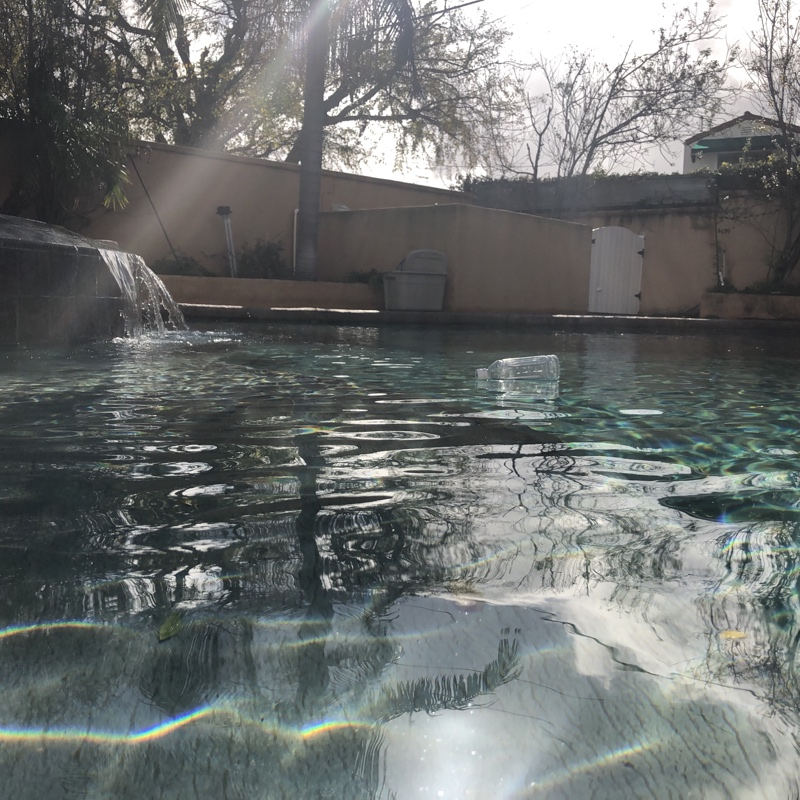Plastic Bottle: (469, 348, 562, 393)
